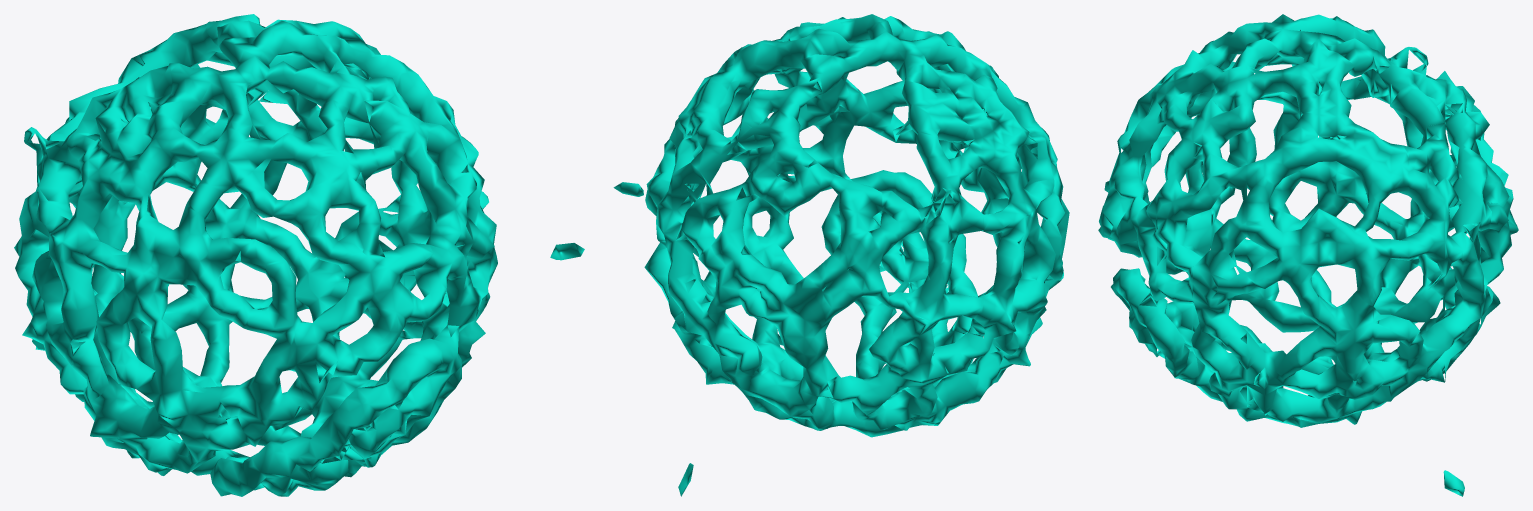
The model's file is ifs_mandelbox_fractal_mesh_1780734652247.glb.
3 views of the same model, side by side, from view 1: azimuth 30°, elevation 25°; view 2: azimuth 150°, elevation 25°; view 3: azimuth 270°, elevation 25° (orthographic). The views are drawn at different scales.
Parts seen in each view (by area): view 1: dodecahedral_ifs_ft7; view 2: dodecahedral_ifs_ft7; view 3: dodecahedral_ifs_ft7.
Boxes of the visible parts, x1,y1,x2,y2 form: dodecahedral_ifs_ft7: (14, 14, 584, 496); dodecahedral_ifs_ft7: (613, 14, 1069, 496); dodecahedral_ifs_ft7: (1098, 14, 1518, 496).
Size of the model in its own units: 3.23 by 2.93 by 2.67.
